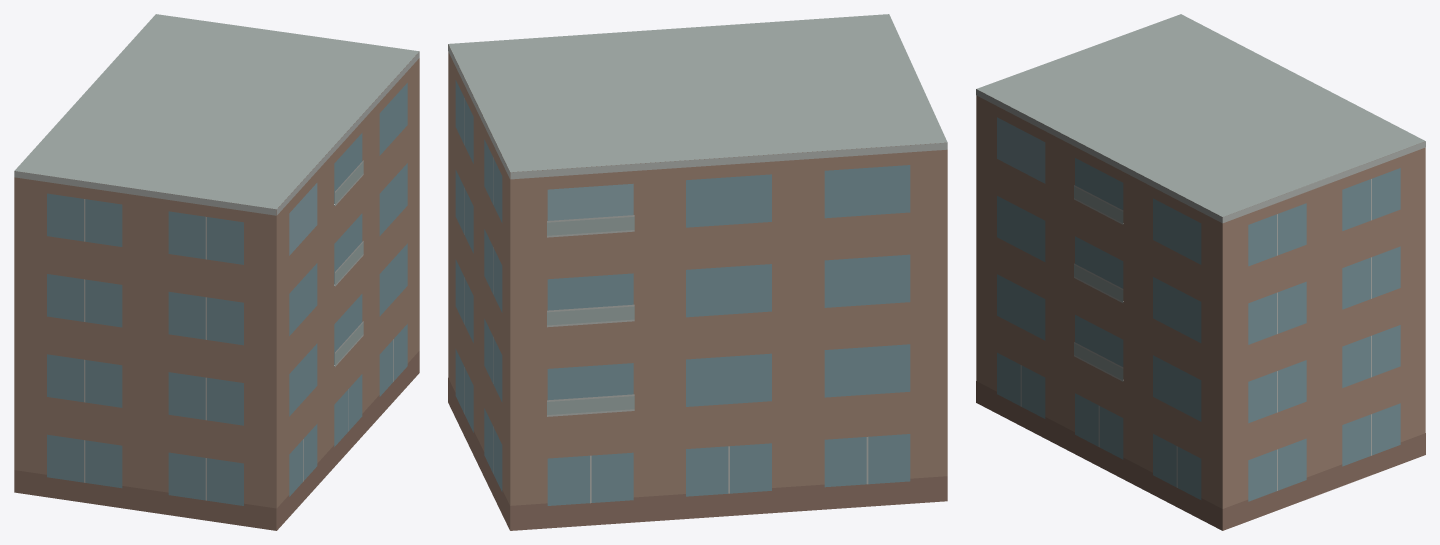
Rendered from survey-upis-32844954.glb.
3 renders of one model, left to right at view 1: azimuth 30°, elevation 25°; view 2: azimuth 150°, elevation 25°; view 3: azimuth 270°, elevation 25°, orthographic. The views are drawn at different scales.
Parts seen in each view (by area): view 1: survey-upis-32844954.tmp; view 2: survey-upis-32844954.tmp; view 3: survey-upis-32844954.tmp.
Boxes of the visible parts, left/top/right/bottom form: survey-upis-32844954.tmp: left=14, top=14, right=419, bottom=530; survey-upis-32844954.tmp: left=448, top=14, right=947, bottom=530; survey-upis-32844954.tmp: left=976, top=14, right=1425, bottom=530.
Bounding box in the file's own units: 16.95 × 12.2 × 15.85.
